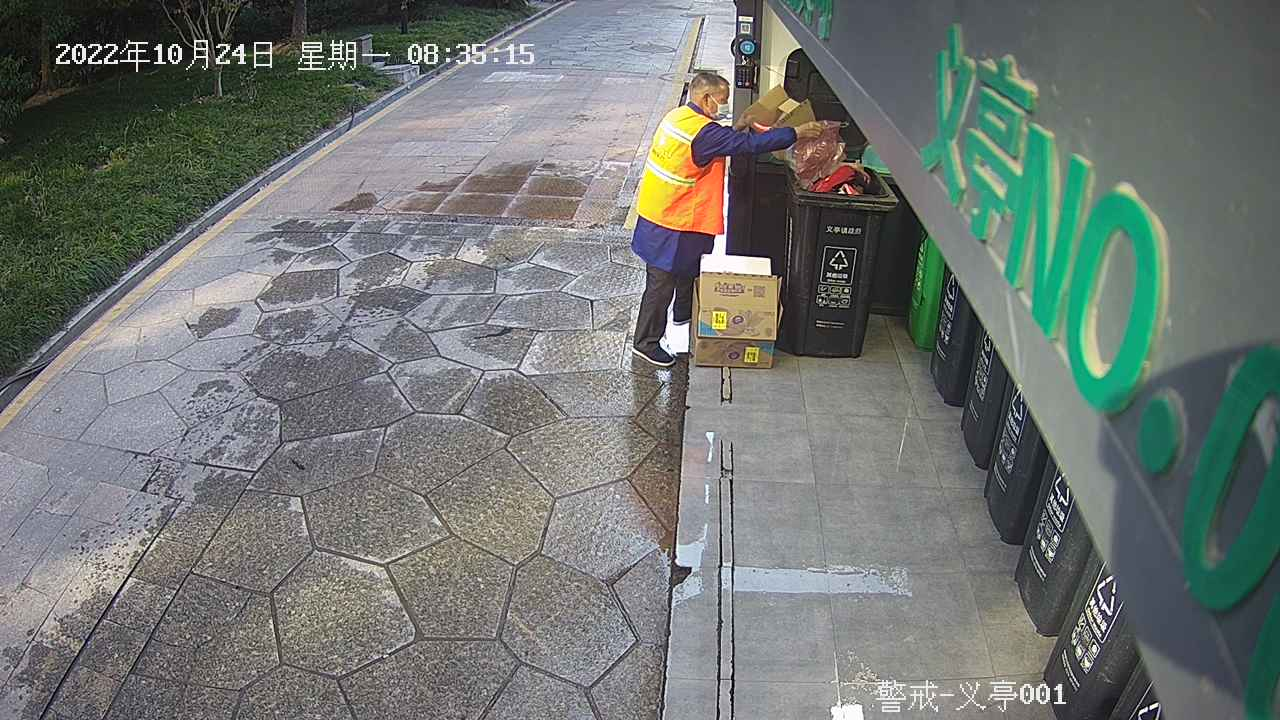worker: (625, 67, 830, 369)
zhizhipin: (686, 247, 787, 373)
